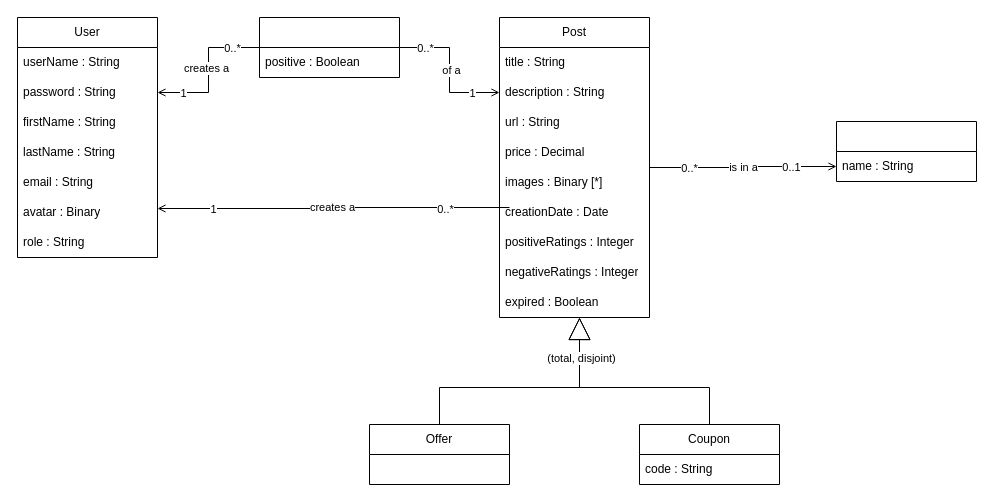
The diagram is 994 pixels wide and 502 high, and some of its shapes have lost their labels. Here are the shapes that lost their labels. From the top down, the box of each, then its label:
(258, 16, 400, 78): Rating
(836, 120, 976, 182): Category
